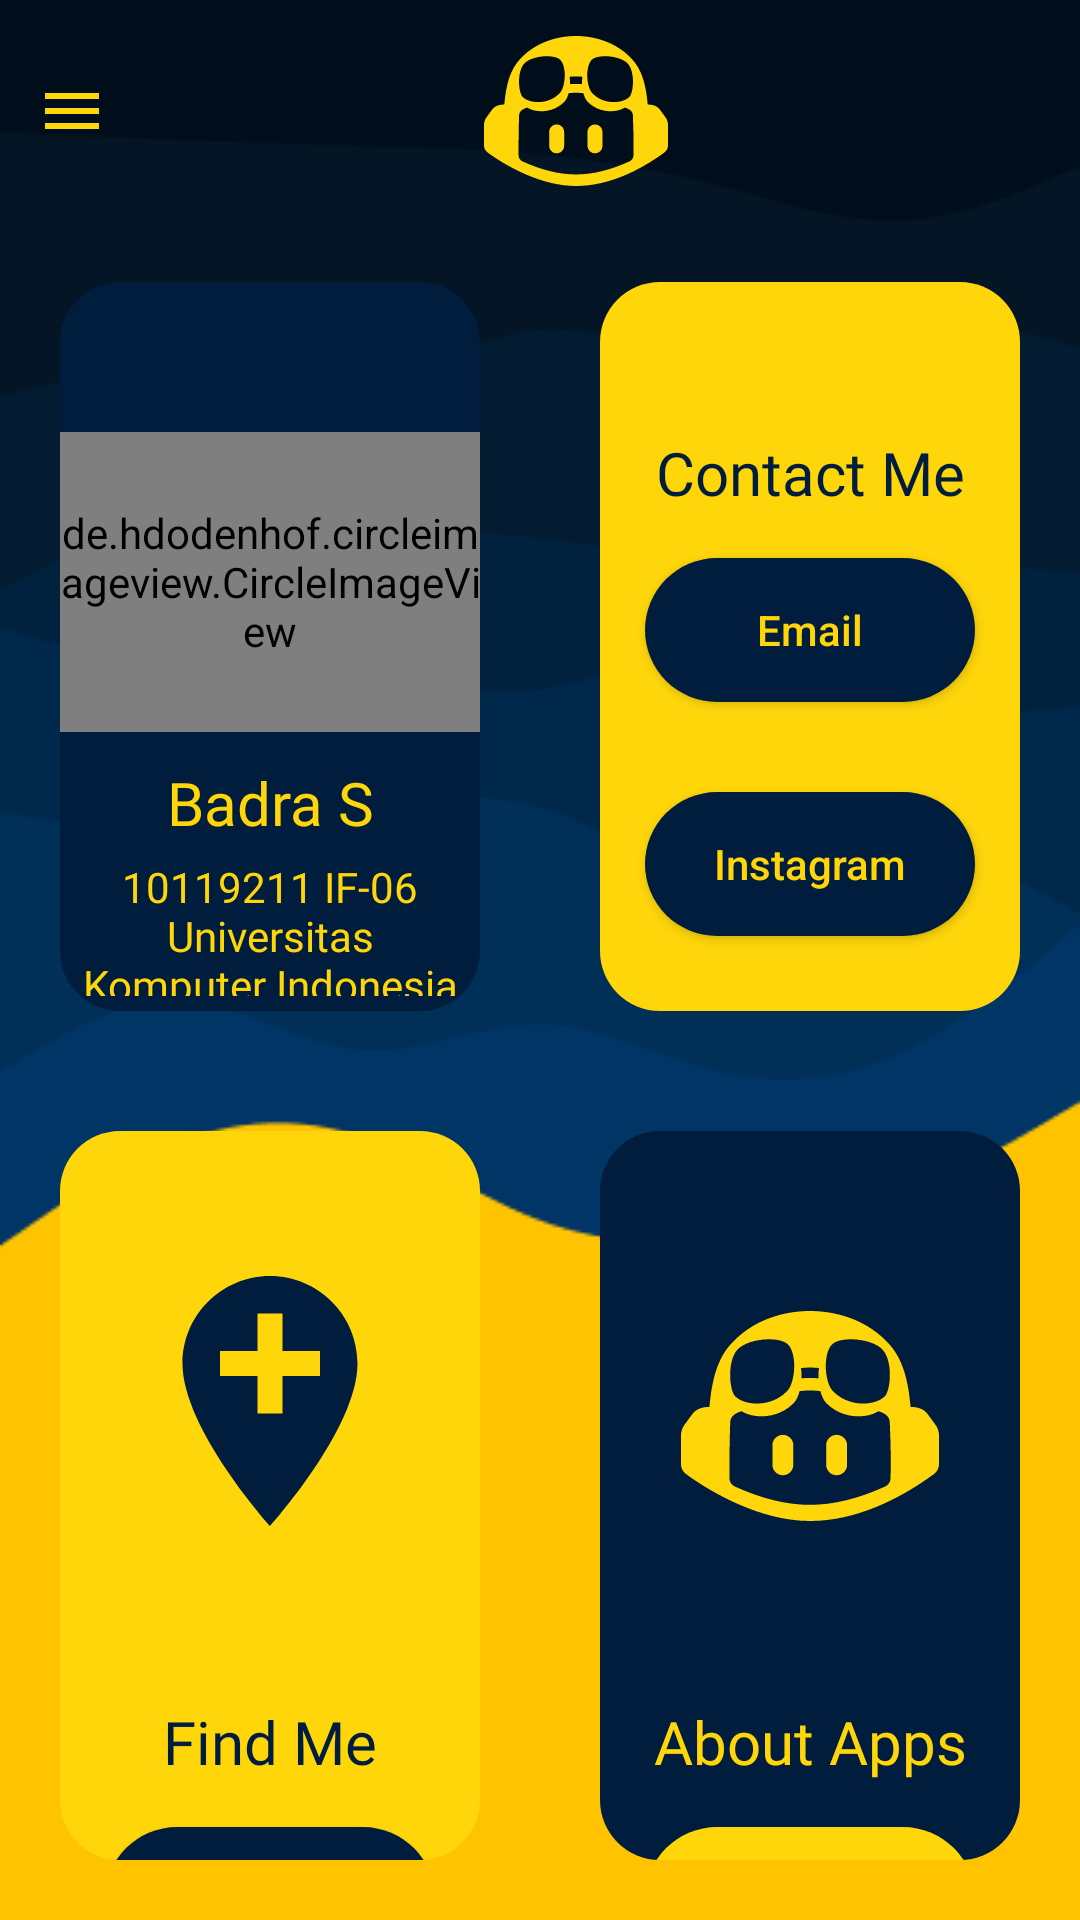

Named icons in this screenshot (1080 × 1920) and their centers, [x,y]:
location: [270,1401]
more: [72,111]
